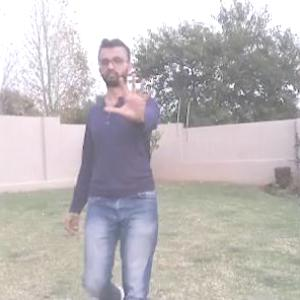follow_hand: (104, 70, 156, 121)
